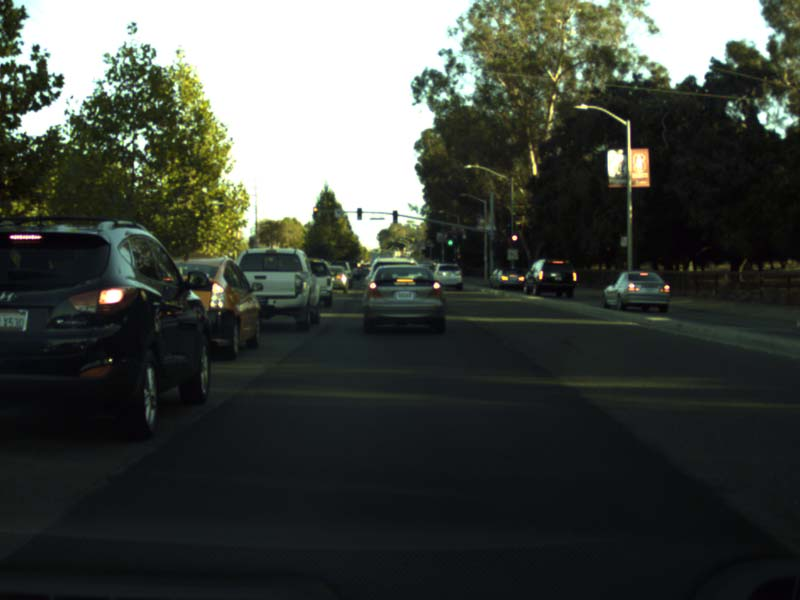Green: (446, 230, 453, 247), (356, 208, 362, 220), (392, 210, 396, 222)
Red: (511, 235, 517, 248), (312, 207, 317, 219)
